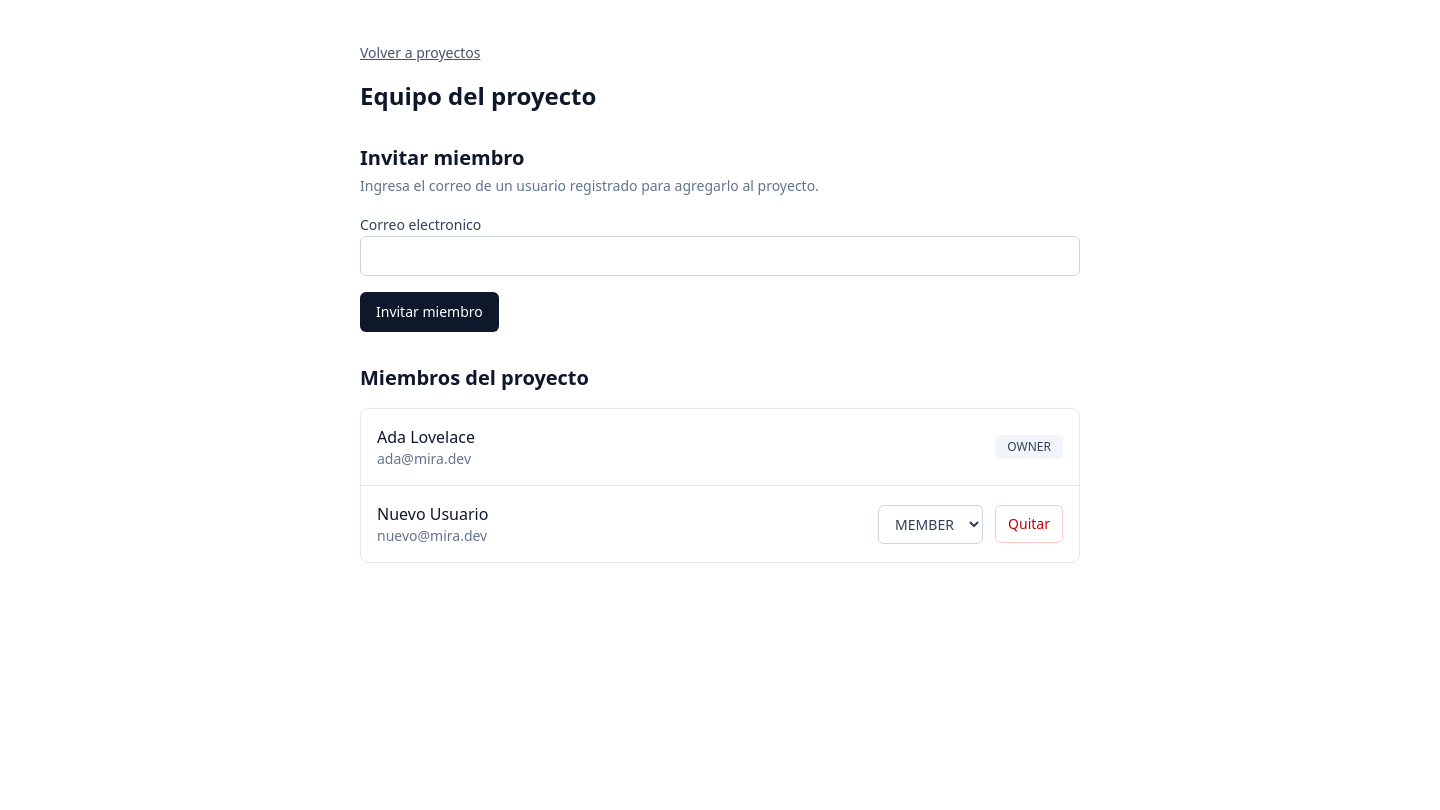
Scenario: ProjectMembersPage - MIR-10 › OWNER confirma la eliminacion y actualiza la lista
Expected: the text "Nuevo Usuario" is shown, 377,503 -> 488,525
Click the button "Quitar" at (1029, 524), box 995,505 -> 1063,543
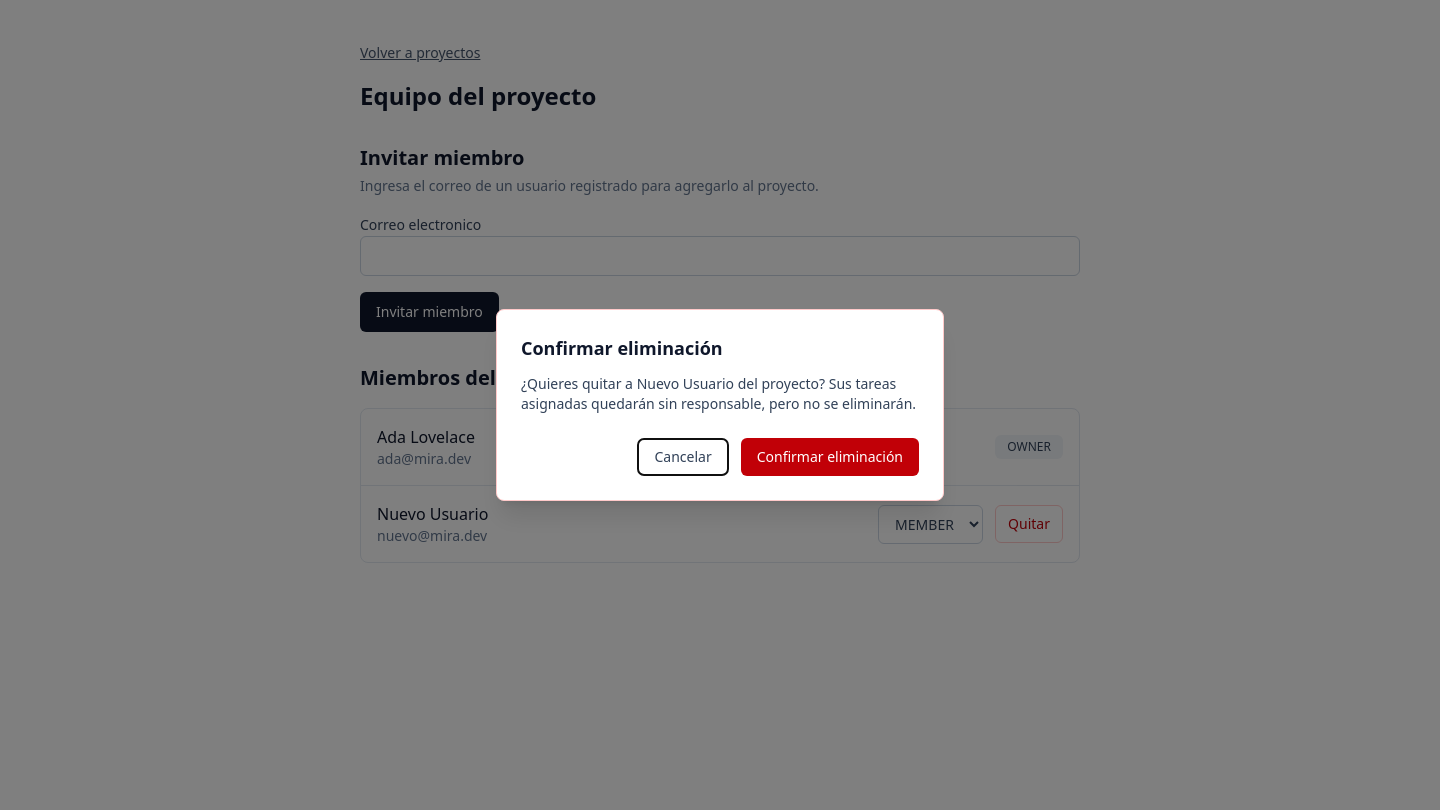
Expected: the dialog is shown, 496,309 -> 944,501
Click the button "Confirmar eliminación" at (830, 457), box 741,438 -> 919,476
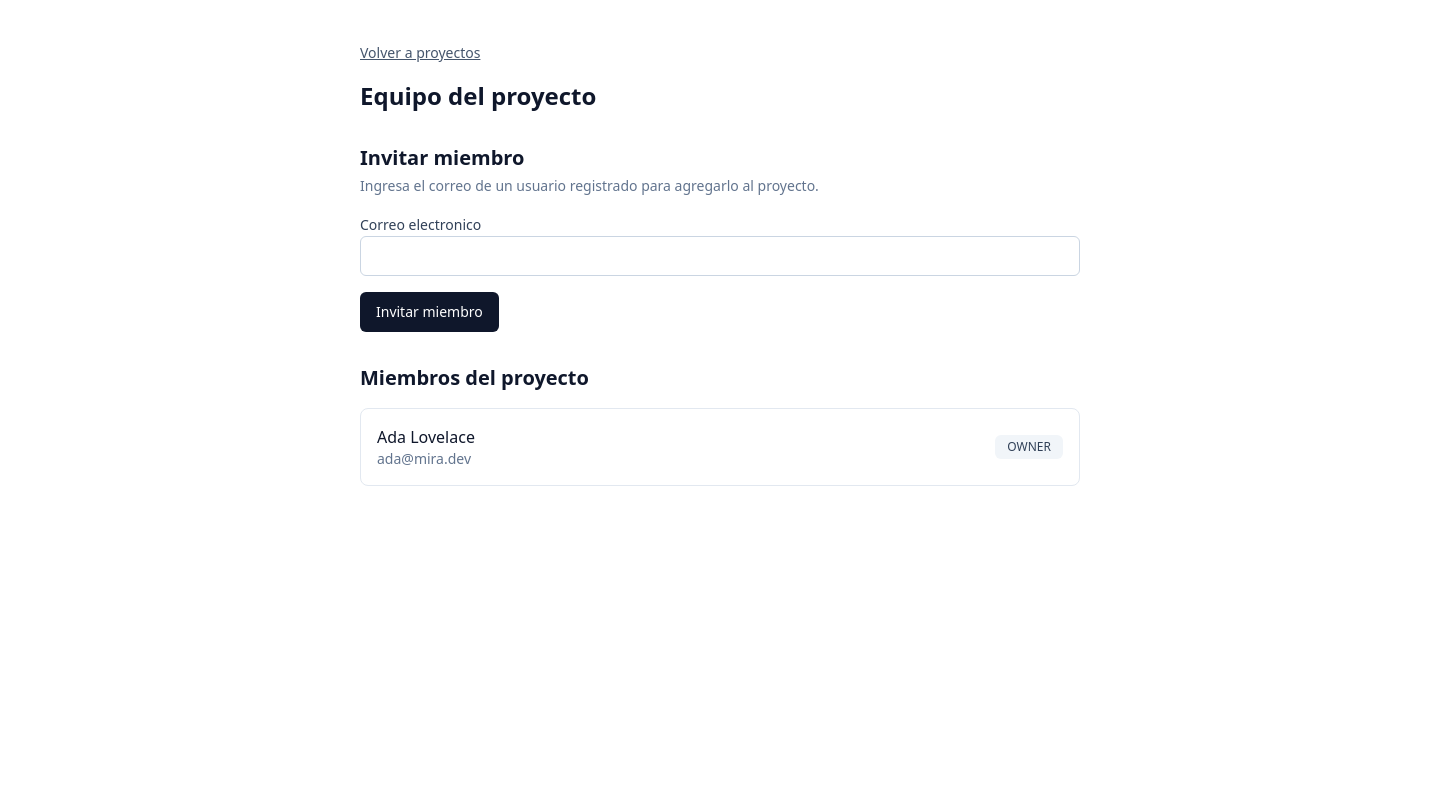
Expected: the text "Ada Lovelace" is shown, 377,426 -> 475,448
Expected: the text "Nuevo Usuario" is gone
